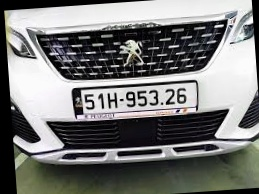Bien-so: (81, 82, 198, 116)
